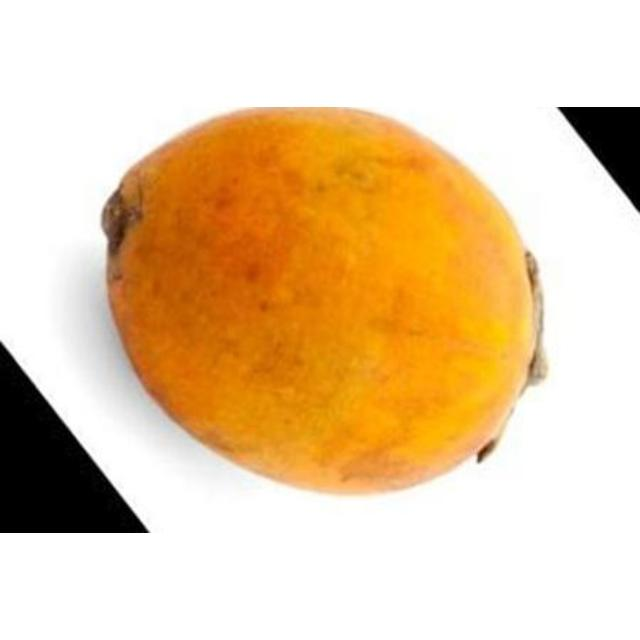good: (98, 107, 543, 495)
